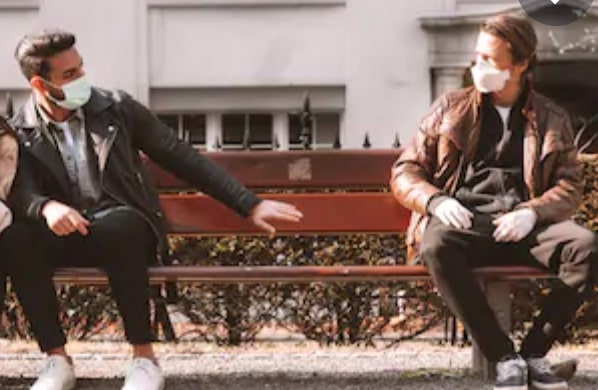Caution: (10, 15, 593, 387)
